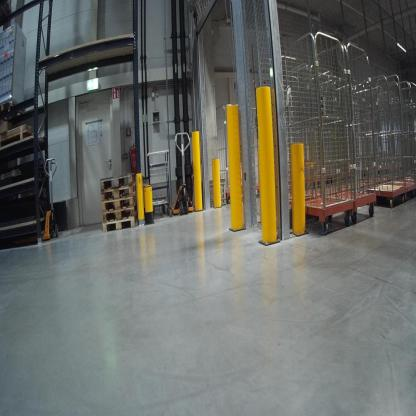pallet: (99, 172, 136, 195), (100, 182, 136, 204), (102, 194, 136, 215), (98, 193, 137, 211), (102, 205, 137, 222), (102, 216, 138, 232), (0, 99, 26, 119)
pallet_truck: (14, 157, 59, 246), (170, 132, 194, 216)
